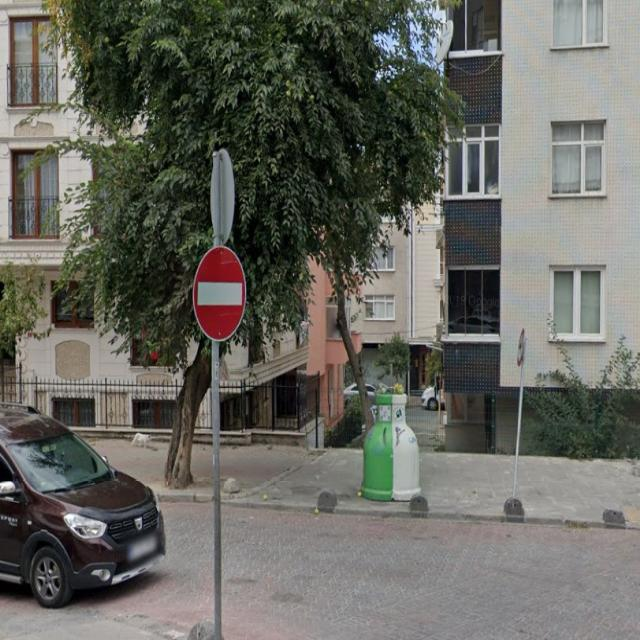girisyok: (193, 246, 246, 342)
